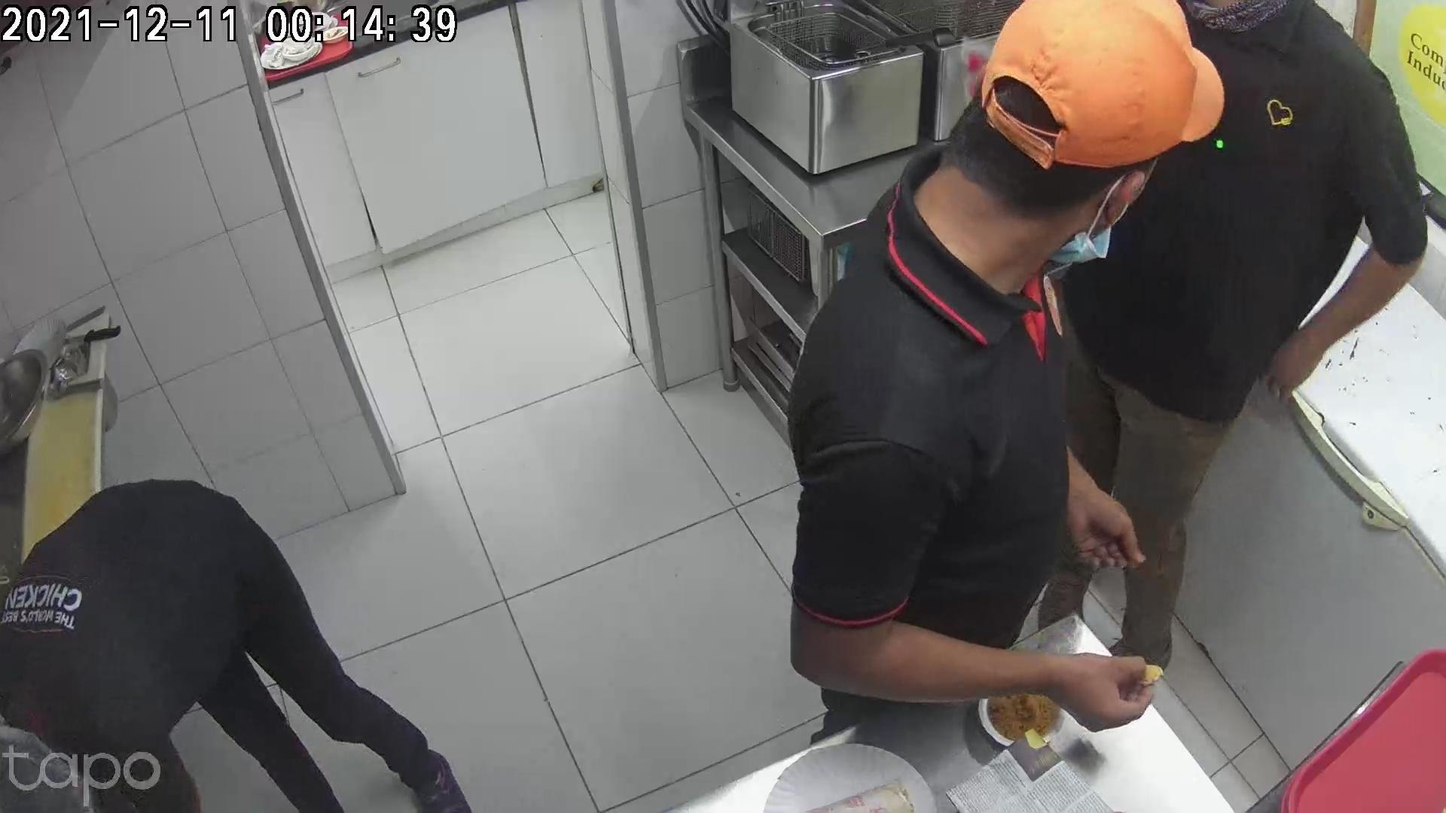gloves: (849, 615, 943, 755)
no_gloves: (1038, 578, 1115, 706)
